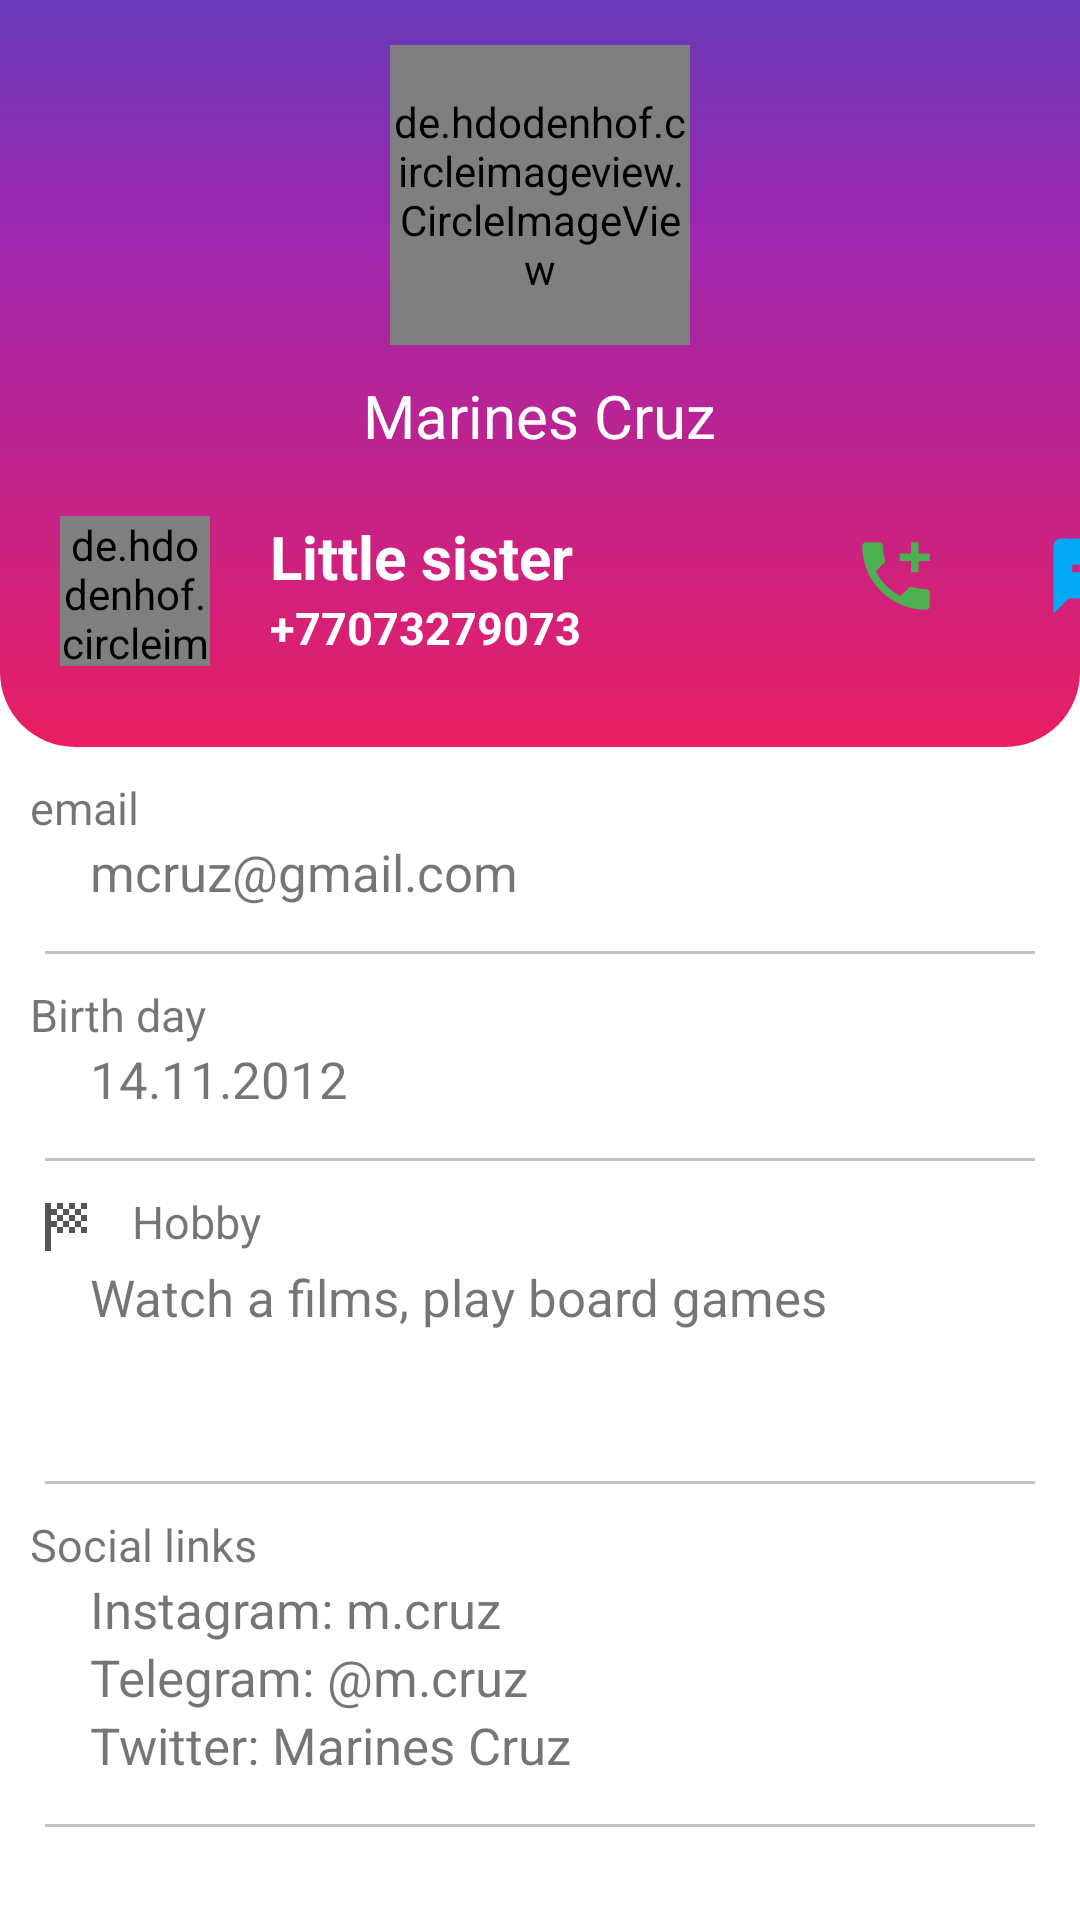

Named icons in this screenshot (1080px×1920px) and their bounding boxes, rect(x1, y1, x2, y2):
call: rect(862, 542, 930, 610)
